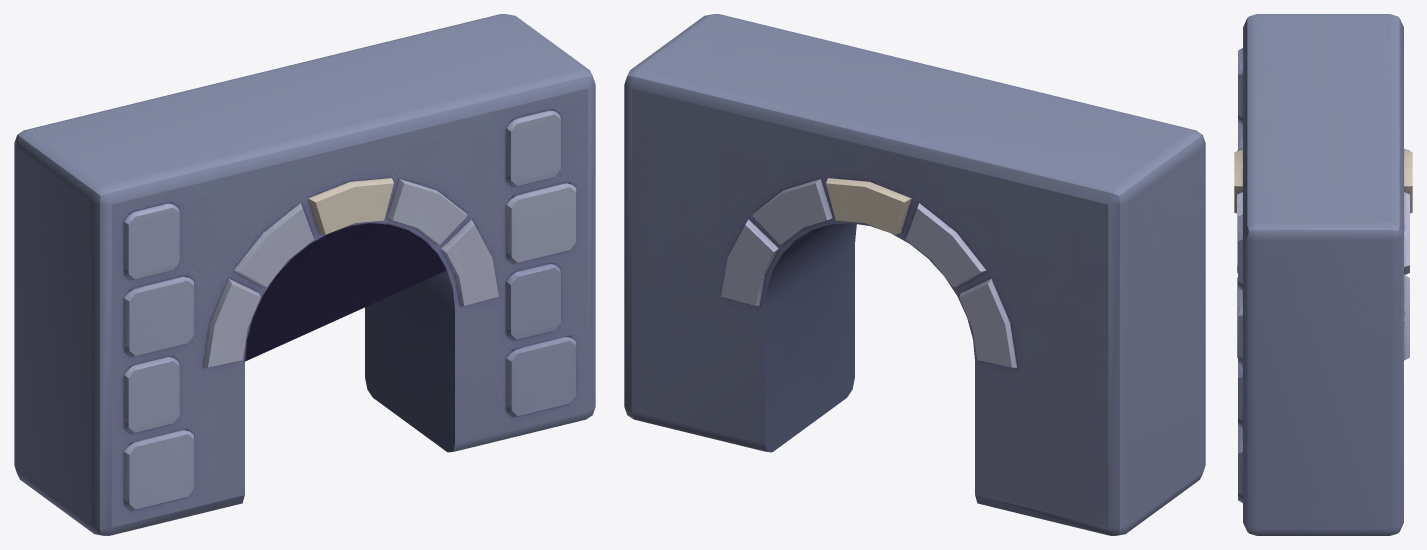
Rendered from kemer.glb.
3 views of the same model, side by side, from view 1: azimuth 30°, elevation 25°; view 2: azimuth 150°, elevation 25°; view 3: azimuth 270°, elevation 25° (orthographic). The views are drawn at different scales.
Visible parts, largest first — view 1: kemer; view 2: kemer; view 3: kemer.
Part boxes in pixels (x1,y1,x2,y2): kemer: (14, 14, 595, 535); kemer: (624, 14, 1205, 535); kemer: (1234, 14, 1412, 535).
Size of the model in its own units: 4.6 by 3.07 by 1.58.
1 material, 1 textured.
